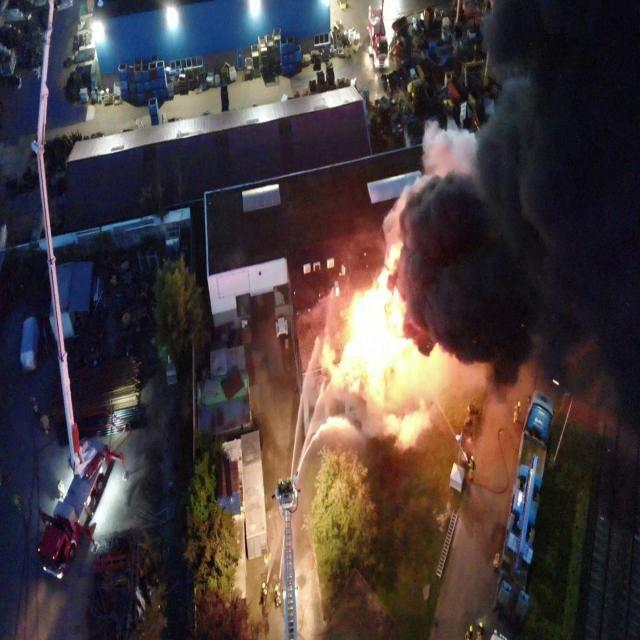Fire: (333, 241, 419, 393)
Smoke: (316, 0, 639, 452)
